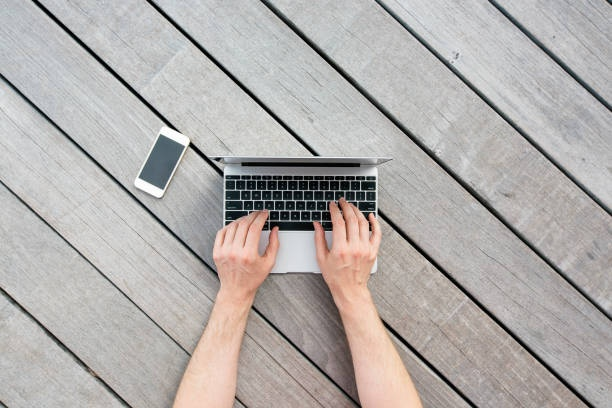keyboard: (223, 173, 377, 232)
laptop: (207, 155, 392, 276)
phone: (133, 126, 191, 199)
